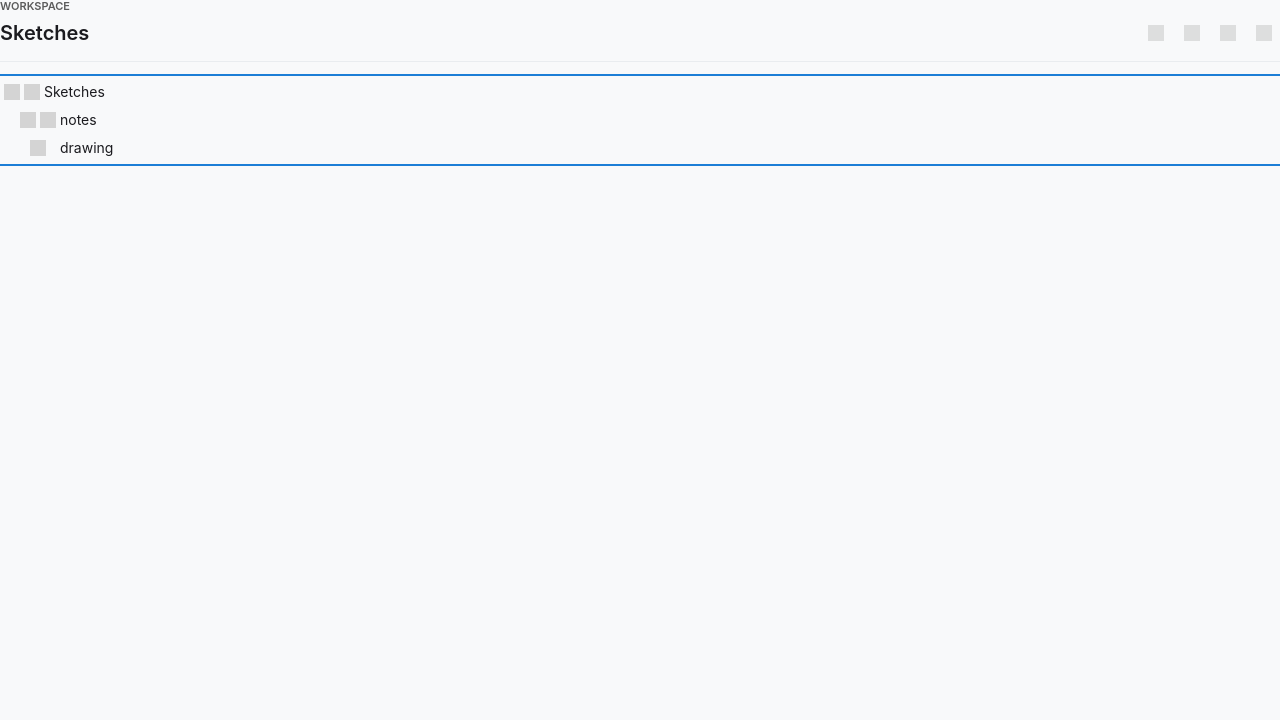
Test: WorkspacePanel › keeps a conflicting header create side-effect free and retryable
This screenshot has width=1280, height=720.
Expected: the list item "notes" is shown, [20,111,97,128]
Step 1. Click the button named "New Drawing" → point(1156, 33), box [1140,17,1172,49]
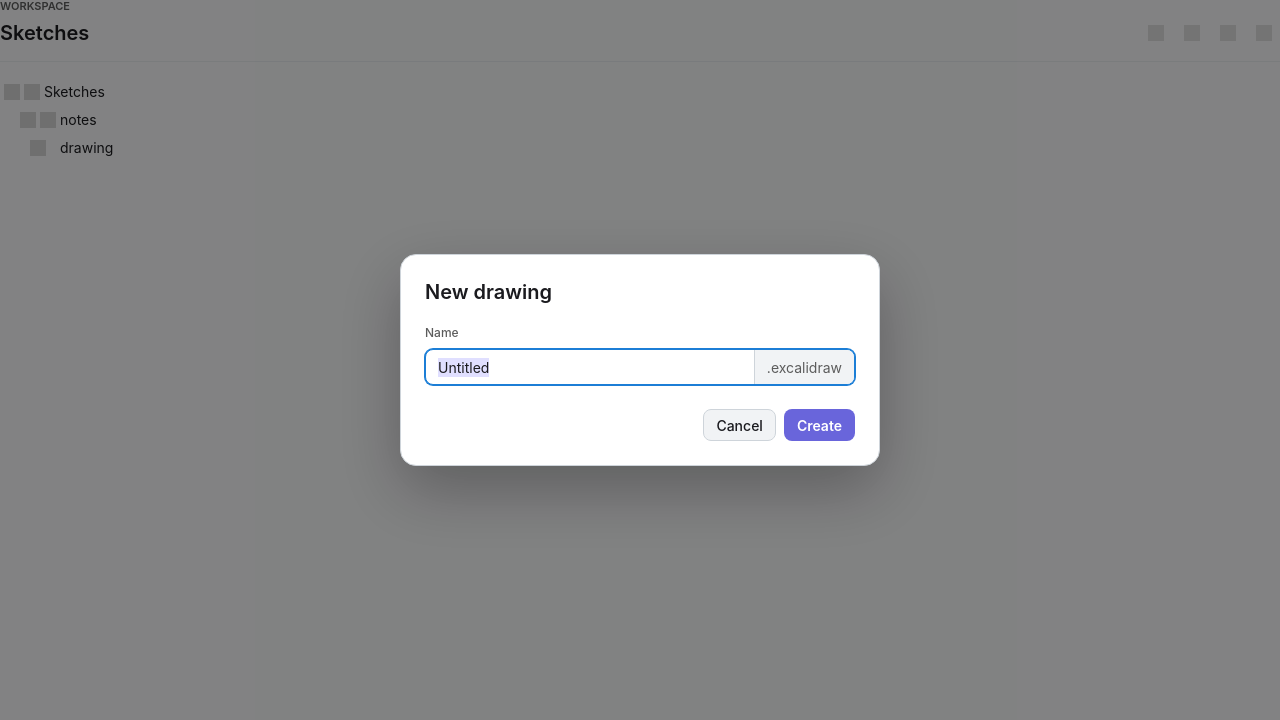
Step 2. Replace the text in the field labelled "Name" with "drawing" → point(590, 367), box [426,350,754,384]
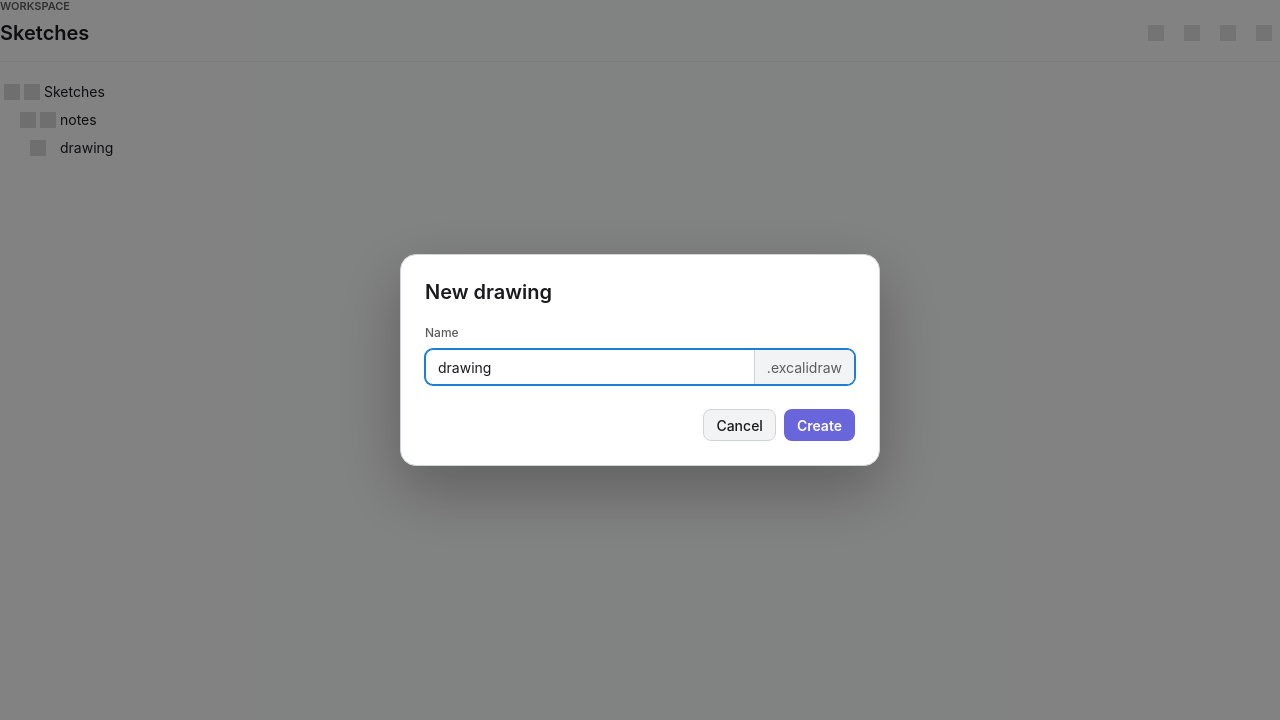
Step 3. Click the button "Create" → point(819, 425), box [784,409,855,441]
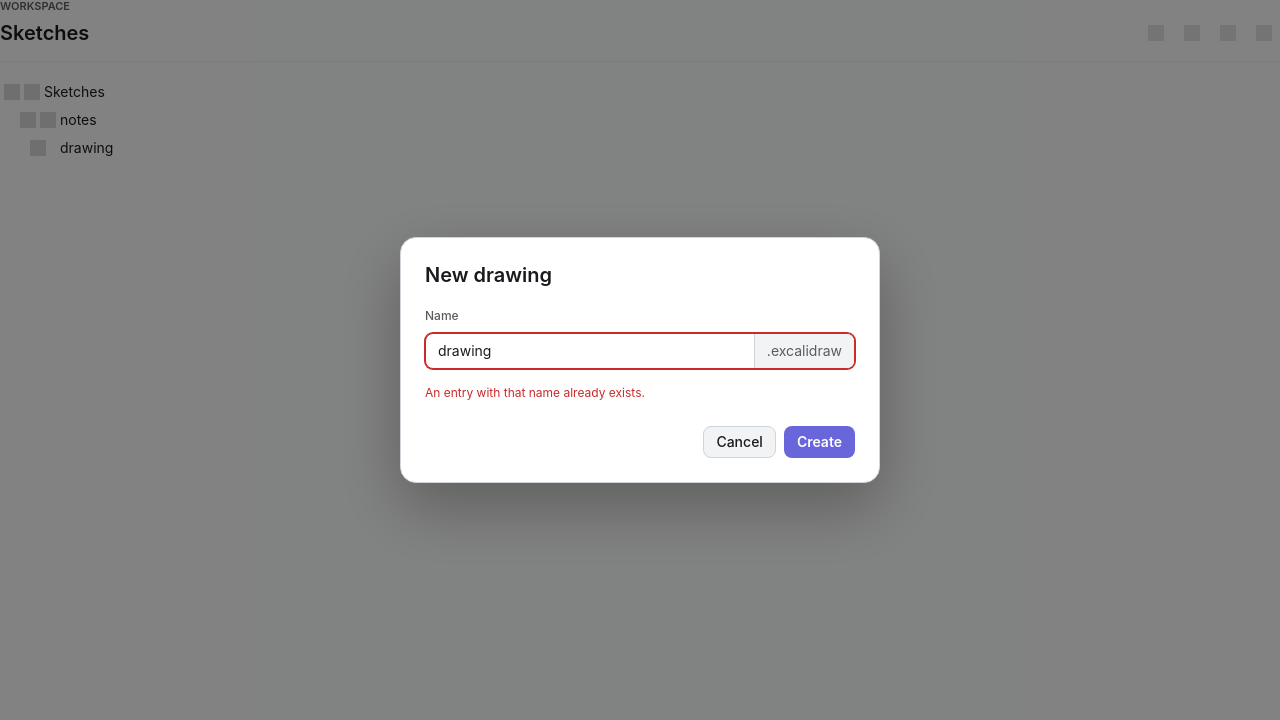
Expected: the dialog "New drawing" is shown, [400,237,880,483]
Expected: the message shows "already exists", [425,385,645,400]
